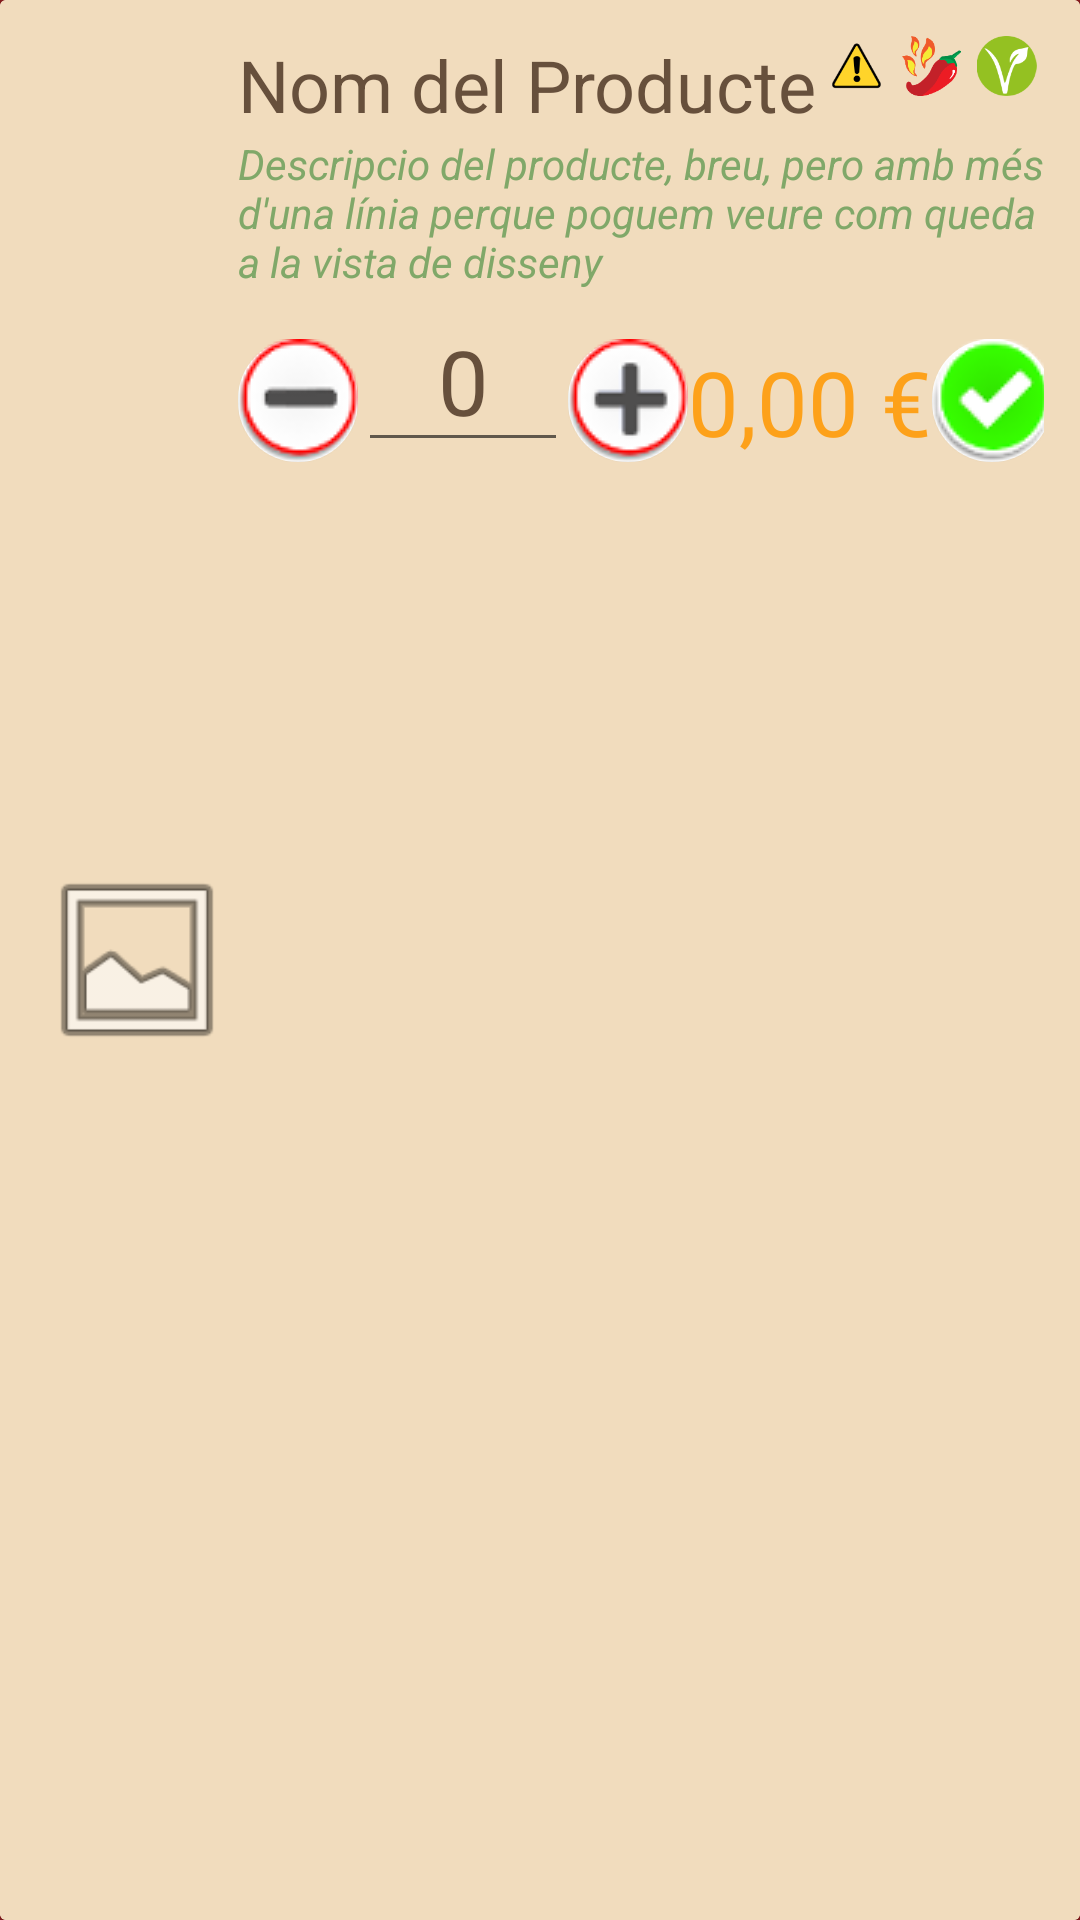

Named icons in this screenshot (1080 x 1920) and their centers, (x=x, y=y):
acceptar: (x=988, y=400)
allergy: (x=856, y=65)
gallery: (x=137, y=960)
restar: (x=298, y=400)
spicy: (x=931, y=66)
sumar: (x=628, y=400)
veggie: (x=1007, y=66)
